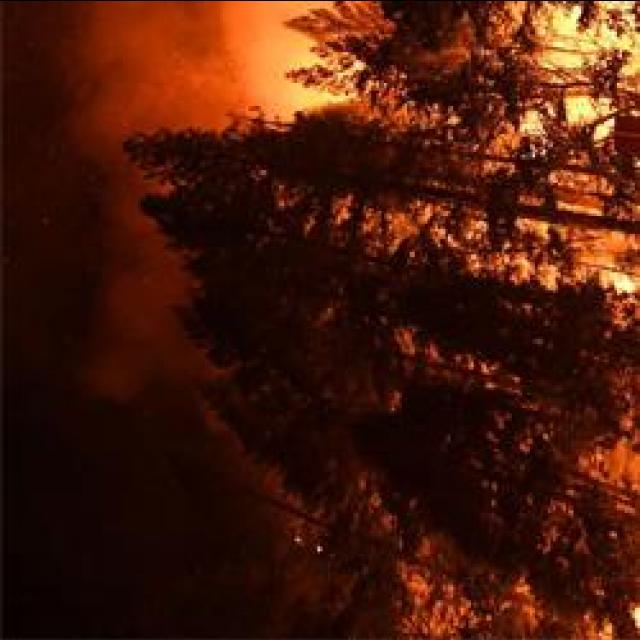fire: (537, 1, 635, 112)
smoke: (62, 0, 290, 110), (78, 260, 194, 412)
